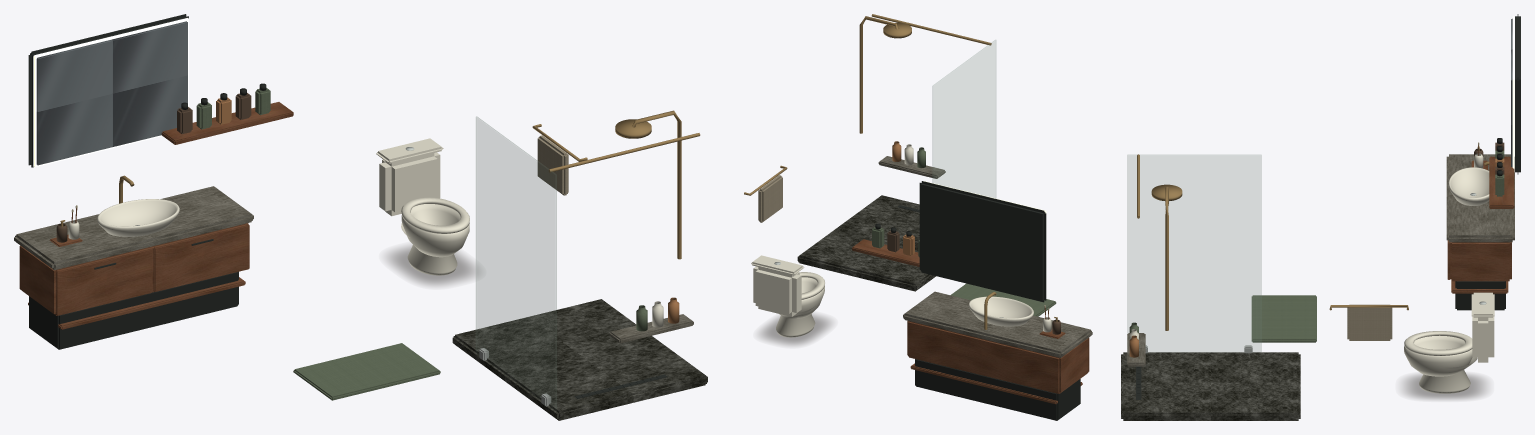
File: bath.glb
3 renders of one model, left to right at view 1: azimuth 30°, elevation 25°; view 2: azimuth 150°, elevation 25°; view 3: azimuth 270°, elevation 25°, orthographic. The views are drawn at different scales.
Parts seen in each view (by area): view 1: M07 | Clear safety glass, M01 | Honed charcoal stone.002, M07 | Brushed silvered glass.001, M03 | Quarter-cut walnut.003, Fixtures | Warm glazed porcelain.001, M02 | Honed limestone.002, Hardware | Anthracite.002, M08 | Moss linen.003, Hardware | Dark bronze.003, M06 | Blackened steel.003, Contact | Diffuse grounding.003, Lighting | Recessed strip.002 (+3 smaller); view 2: M06 | Blackened steel.003, M03 | Quarter-cut walnut.003, M07 | Clear safety glass, M01 | Honed charcoal stone.002, Fixtures | Warm glazed porcelain.001, M02 | Honed limestone.002, Hardware | Anthracite.002, Hardware | Dark bronze.003, M08 | Moss linen.003, Contact | Diffuse grounding.003, M08 | Oyster basketweave.003, Ceramics | Burnt sienna.001 (+1 smaller); view 3: M07 | Clear safety glass, M01 | Honed charcoal stone.002, Fixtures | Warm glazed porcelain.001, M03 | Quarter-cut walnut.003, M02 | Honed limestone.002, M08 | Moss linen.003, M08 | Oyster basketweave.003, Hardware | Dark bronze.003, M06 | Blackened steel.003, Hardware | Anthracite.002, Contact | Diffuse grounding.003, Lighting | Recessed strip.002.
Boxes of the visible parts, x1=… form: M07 | Clear safety glass: x1=476, y1=116, x2=556, y2=410; M01 | Honed charcoal stone.002: x1=452, y1=299, x2=707, y2=420; M07 | Brushed silvered glass.001: x1=36, y1=21, x2=187, y2=165; M03 | Quarter-cut walnut.003: x1=19, y1=102, x2=293, y2=329; Fixtures | Warm glazed porcelain.001: x1=68, y1=138, x2=663, y2=327; M02 | Honed limestone.002: x1=14, y1=186, x2=693, y2=343; Hardware | Anthracite.002: x1=29, y1=83, x2=658, y2=396; M08 | Moss linen.003: x1=196, y1=88, x2=647, y2=400; Hardware | Dark bronze.003: x1=60, y1=110, x2=700, y2=259; M06 | Blackened steel.003: x1=28, y1=14, x2=667, y2=398; Contact | Diffuse grounding.003: x1=386, y1=245, x2=475, y2=285; Lighting | Recessed strip.002: x1=33, y1=18, x2=188, y2=167; M06 | Blackened steel.003: x1=898, y1=181, x2=1046, y2=302; M03 | Quarter-cut walnut.003: x1=852, y1=239, x2=1089, y2=404; M07 | Clear safety glass: x1=932, y1=40, x2=996, y2=197; M01 | Honed charcoal stone.002: x1=797, y1=195, x2=935, y2=291; Fixtures | Warm glazed porcelain.001: x1=751, y1=144, x2=1051, y2=337; M02 | Honed limestone.002: x1=878, y1=156, x2=1092, y2=357; Hardware | Anthracite.002: x1=875, y1=37, x2=1080, y2=420; Hardware | Dark bronze.003: x1=744, y1=14, x2=1057, y2=329; M08 | Moss linen.003: x1=872, y1=147, x2=1056, y2=316; Contact | Diffuse grounding.003: x1=759, y1=314, x2=831, y2=345; M08 | Oyster basketweave.003: x1=758, y1=175, x2=782, y2=222; Ceramics | Burnt sienna.001: x1=892, y1=141, x2=914, y2=255; M07 | Clear safety glass: x1=1127, y1=155, x2=1261, y2=351; M01 | Honed charcoal stone.002: x1=1121, y1=352, x2=1300, y2=420; Fixtures | Warm glazed porcelain.001: x1=1129, y1=153, x2=1494, y2=393; M03 | Quarter-cut walnut.003: x1=1447, y1=144, x2=1514, y2=293; M02 | Honed limestone.002: x1=1127, y1=154, x2=1514, y2=366; M08 | Moss linen.003: x1=1129, y1=150, x2=1504, y2=342; M08 | Oyster basketweave.003: x1=1347, y1=304, x2=1392, y2=340; Hardware | Dark bronze.003: x1=1137, y1=146, x2=1489, y2=330; M06 | Blackened steel.003: x1=1136, y1=14, x2=1520, y2=399; Hardware | Anthracite.002: x1=1137, y1=138, x2=1505, y2=395; Contact | Diffuse grounding.003: x1=1402, y1=374, x2=1486, y2=399; Lighting | Recessed strip.002: x1=1512, y1=16, x2=1514, y2=171.
Bounding box in the file's own units: 4.28 × 2.37 × 3.78.
18 materials, 8 textured.
